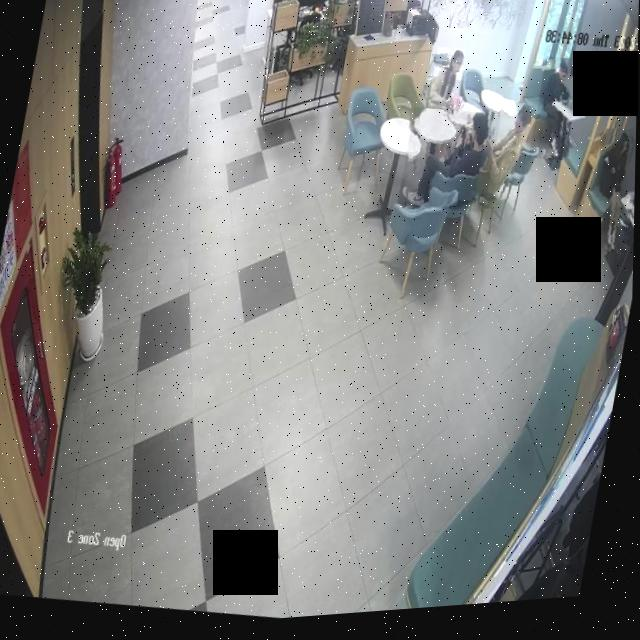person: (398, 109, 502, 226), (584, 135, 637, 266), (475, 104, 534, 211), (529, 63, 583, 171), (428, 52, 466, 118)
